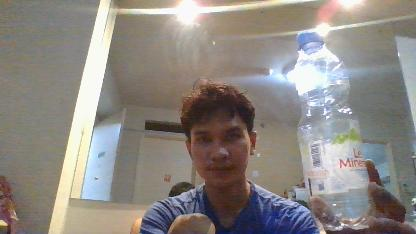Plastic Bottle: (293, 30, 375, 230)
